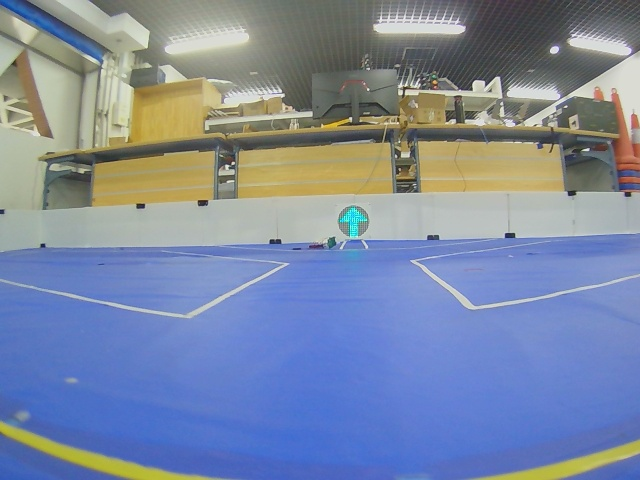straight_green: (338, 205, 369, 238)
